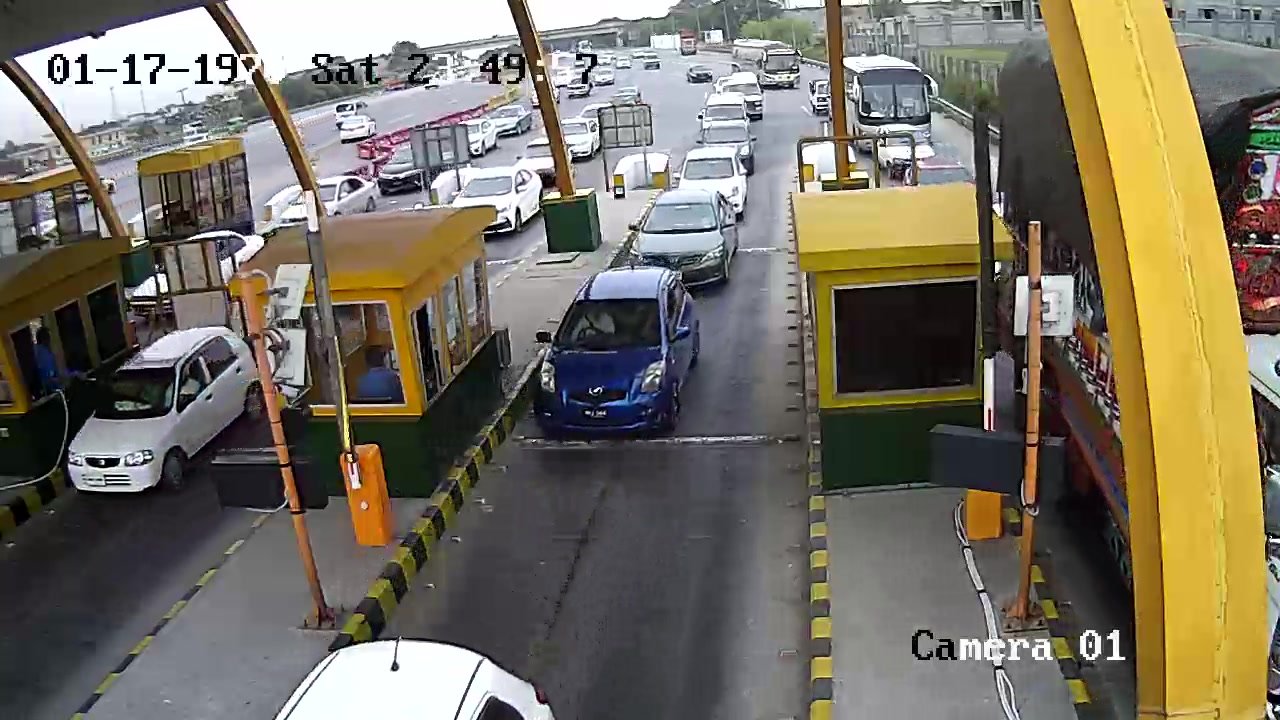F1: (533, 268, 716, 446)
